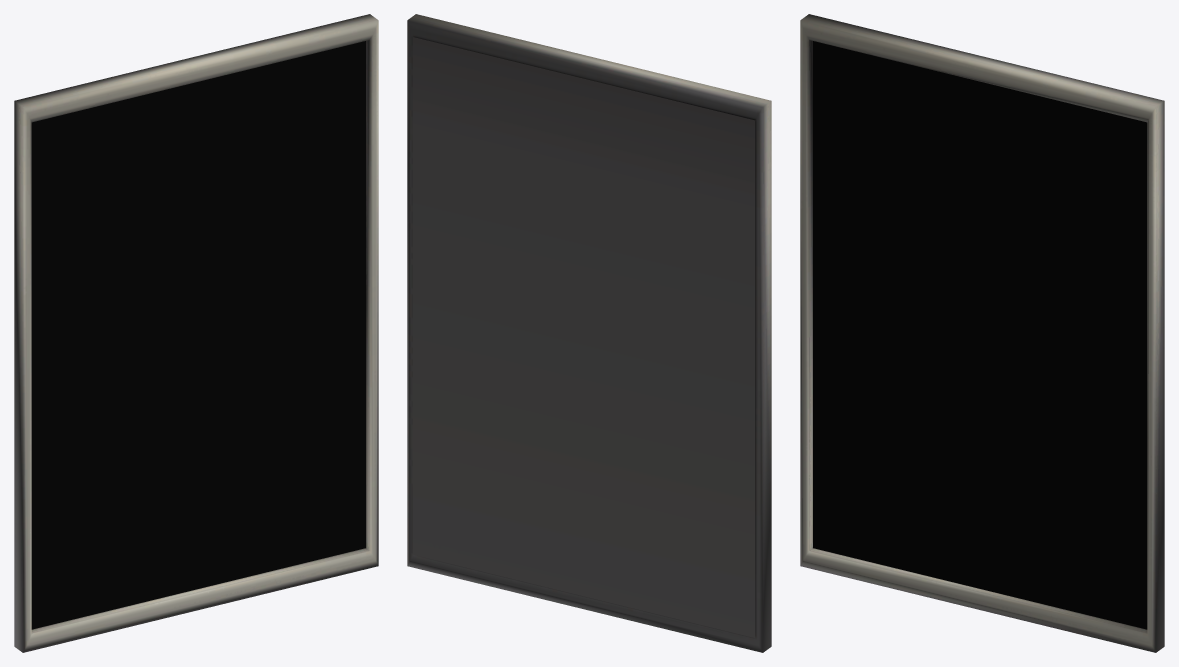
Rendered from SM_Wall_Poster.FBX.
The picture shows the model from 3 angles, left to right: view 1: azimuth 30°, elevation 25°; view 2: azimuth 150°, elevation 25°; view 3: azimuth 330°, elevation 25°; orthographic projection.
Parts seen in each view (by area): view 1: SM_Wall_Poster; view 2: SM_Wall_Poster; view 3: SM_Wall_Poster.
Part boxes in pixels (x1=…): SM_Wall_Poster: x1=14, y1=14, x2=378, y2=652; SM_Wall_Poster: x1=407, y1=14, x2=771, y2=652; SM_Wall_Poster: x1=800, y1=14, x2=1164, y2=652.
Size of the model in its own units: 64.03 by 3.26 by 93.92.
